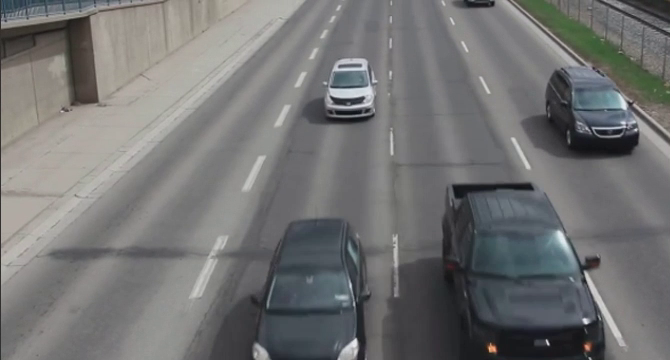car: (436, 181, 608, 360), (252, 214, 371, 360), (539, 58, 648, 159), (325, 52, 383, 124)
